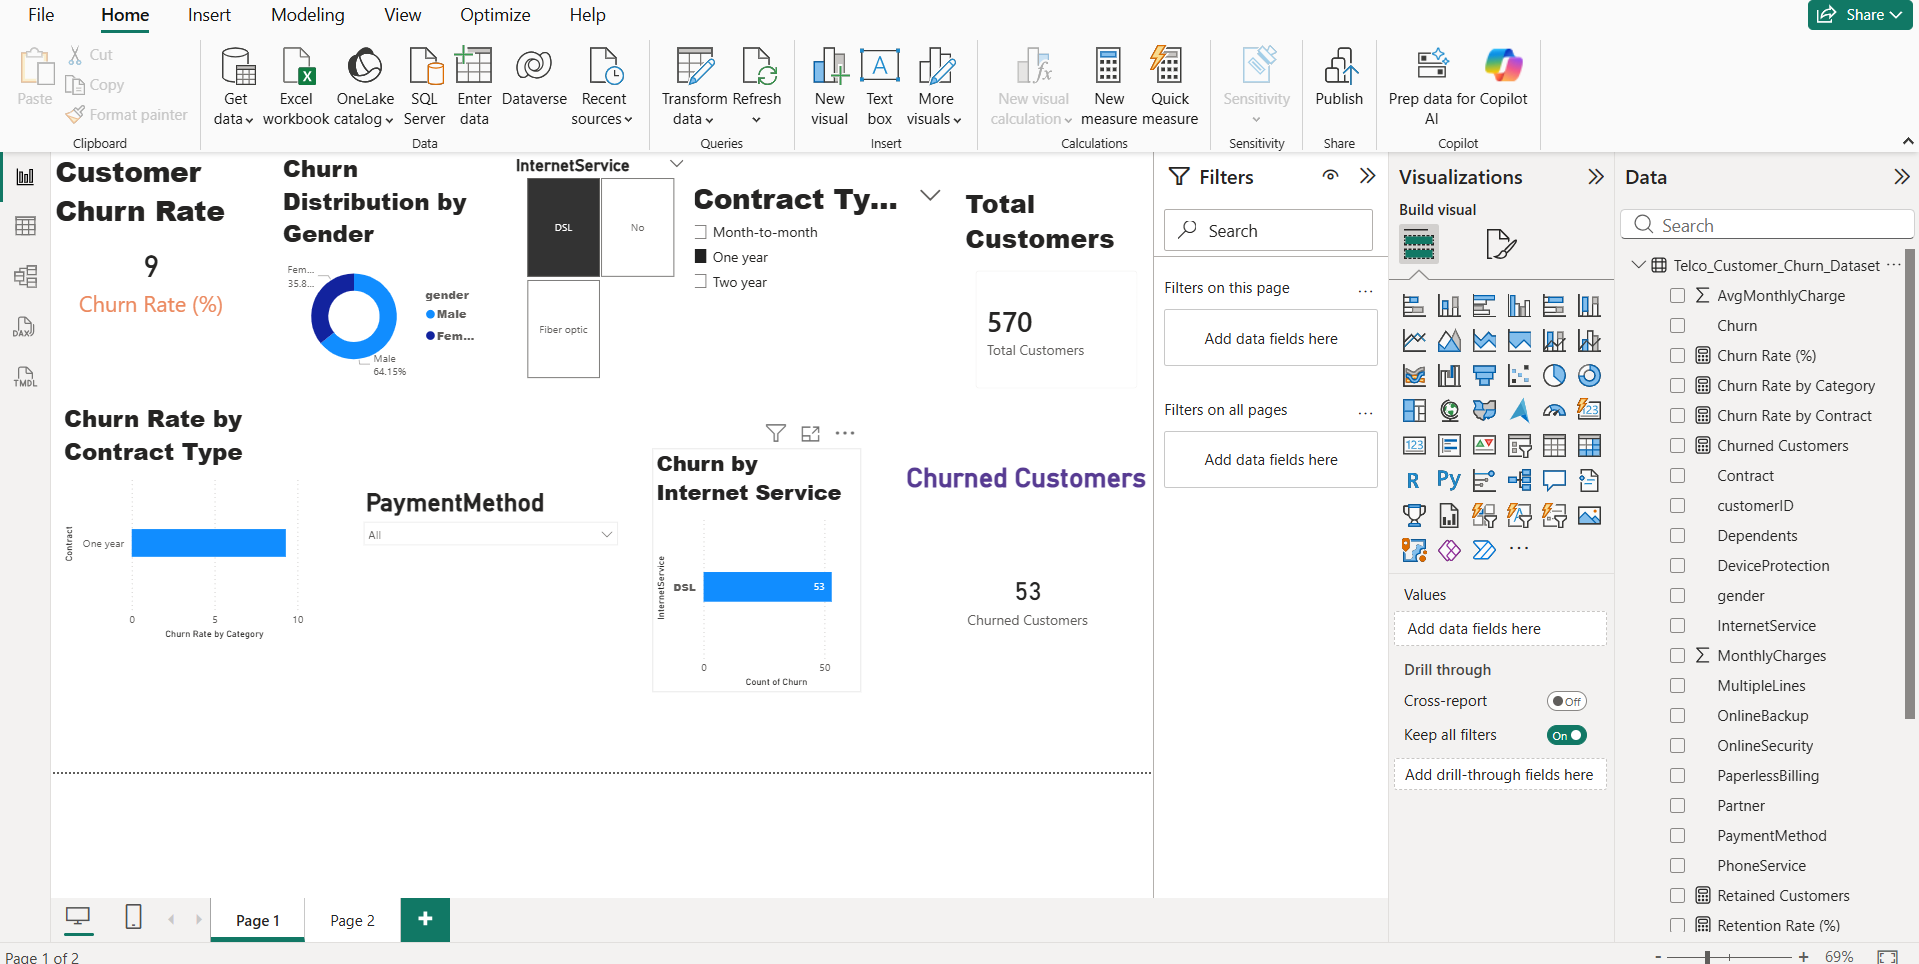

The page's visual inventory and layout, read from the dashboard file:
{"tool":"powerbi","page":{"name":"Page 1","canvas":[1280,720],"ordinal":0},"visuals":[{"type":"card","title":"Customer Churn Rate","fields":{"Values":["Telco_Customer_Churn_Dataset.Churn Rate (%)"]},"box":[0,0,232.8,201.7],"z":0},{"type":"clusteredBarChart","title":"Churn Rate by Contract Type","fields":{"Category":["Telco_Customer_Churn_Dataset.Contract"],"Y":["Telco_Customer_Churn_Dataset.Churn Rate by Category"]},"box":[9.5,291,288.3,280.1],"z":1000},{"type":"donutChart","title":"Churn Distribution by Gender","fields":{"Category":["Telco_Customer_Churn_Dataset.gender"],"Y":["CountNonNull(Telco_Customer_Churn_Dataset.Churn)"]},"box":[263.9,0,247.7,269.3],"z":2000},{"type":"slicer","fields":{"Values":["Telco_Customer_Churn_Dataset.Contract"]},"box":[731.4,25.7,314.3,255.7],"z":3000},{"type":"slicer","fields":{"Values":["Telco_Customer_Churn_Dataset.InternetService"]},"box":[526.5,0,220.6,269.3],"z":4000},{"type":"slicer","fields":{"Values":["Telco_Customer_Churn_Dataset.PaymentMethod"]},"box":[352.9,384.3,315.7,258.6],"z":5000},{"type":"clusteredBarChart","title":"Churn by Internet Service","fields":{"Category":["Telco_Customer_Churn_Dataset.InternetService"],"Y":["CountNonNull(Telco_Customer_Churn_Dataset.Churn)"]},"box":[698.6,344.3,241.4,282.9],"z":6000},{"type":"cardVisual","title":"Total Customers","fields":{"Data":["Telco_Customer_Churn_Dataset.Total Customers"]},"box":[1057.1,38.6,222.9,252.9],"z":7000},{"type":"card","title":"Churned Customers","fields":{"Values":["Telco_Customer_Churn_Dataset.Churned Customers"]},"box":[988.6,360,291.4,282.9],"z":8000}]}

Visuals, with their boxes on the page's 1280x720 design canvas (x1, y1, x2, y2). These are canvas units, not pixel positions in the 1919x964 screenshot, which may show the page scaled, cropped or inside an application window:
"Customer Churn Rate" card: 0,0,233,202
"Churn Rate by Contract Type" clusteredBarChart: 10,291,298,571
"Churn Distribution by Gender" donutChart: 264,0,512,269
slicer - Telco_Customer_Churn_Dataset.Contract: 731,26,1046,281
slicer - Telco_Customer_Churn_Dataset.InternetService: 526,0,747,269
slicer - Telco_Customer_Churn_Dataset.PaymentMethod: 353,384,669,643
"Churn by Internet Service" clusteredBarChart: 699,344,940,627
"Total Customers" cardVisual: 1057,39,1280,292
"Churned Customers" card: 989,360,1280,643
